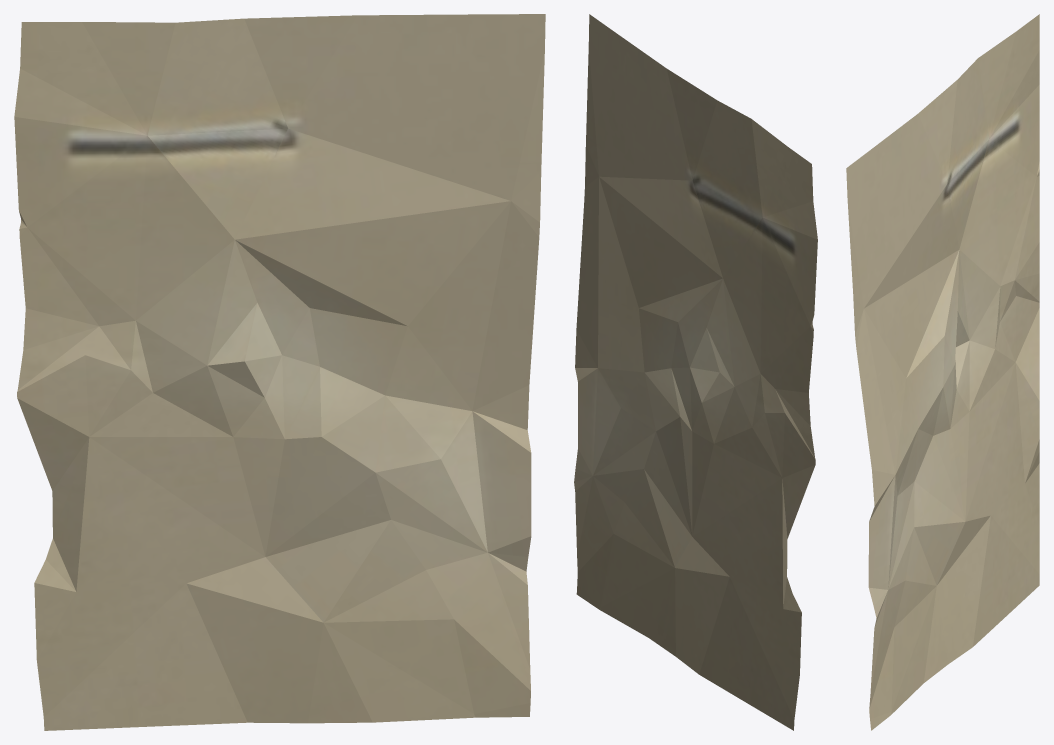
3 views of the same model, side by side, from view 1: azimuth 30°, elevation 25°; view 2: azimuth 150°, elevation 25°; view 3: azimuth 270°, elevation 25° (orthographic). The views are drawn at different scales.
Bounding box in the file's own units: 1 × 1.67 × 0.5214.
2 materials, 2 textured.
